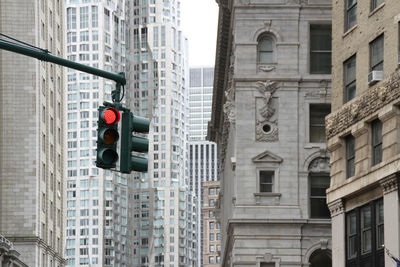red: (96, 105, 119, 169)
